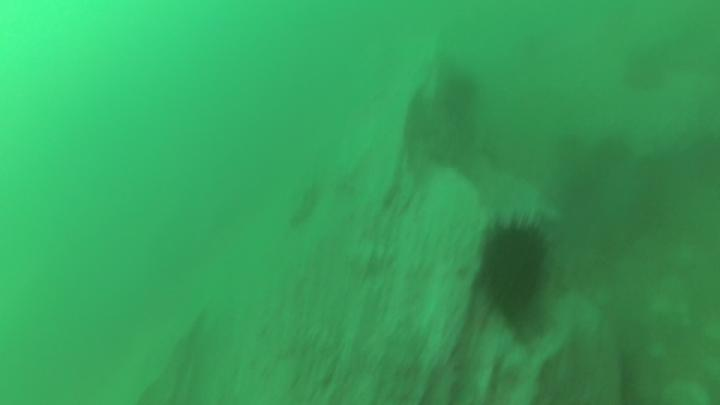echinus: (486, 227, 548, 314)
